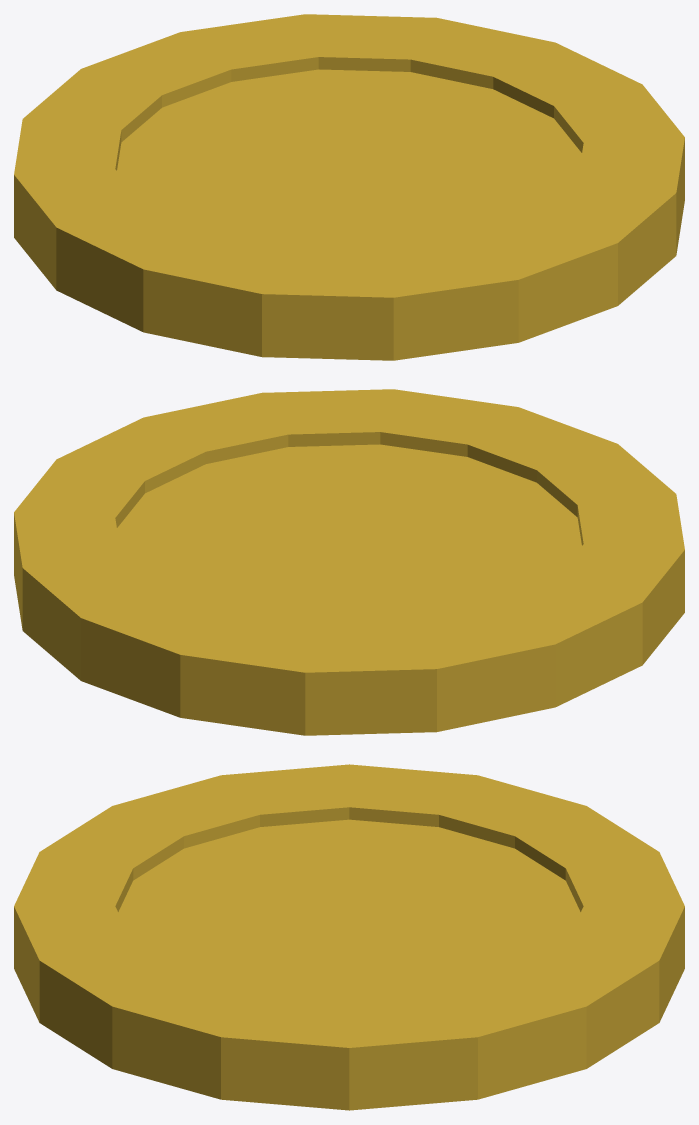
File: Coin.fbx
The picture shows the model from 3 angles, top to bottom: view 1: azimuth 30°, elevation 25°; view 2: azimuth 150°, elevation 25°; view 3: azimuth 270°, elevation 25°; orthographic projection.
Parts seen in each view (by area): view 1: Circle; view 2: Circle; view 3: Circle.
Part boxes in pixels (x1=…): Circle: x1=14, y1=14, x2=684, y2=360; Circle: x1=14, y1=389, x2=684, y2=735; Circle: x1=14, y1=764, x2=684, y2=1110.
Bounding box in the file's own units: 200 × 20.56 × 200.
